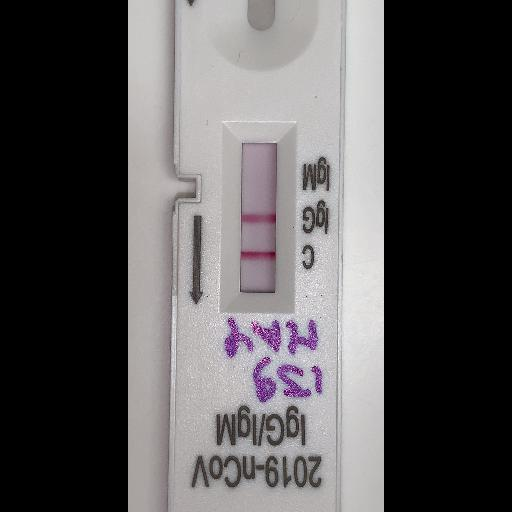Pos: (172, 0, 337, 511)
